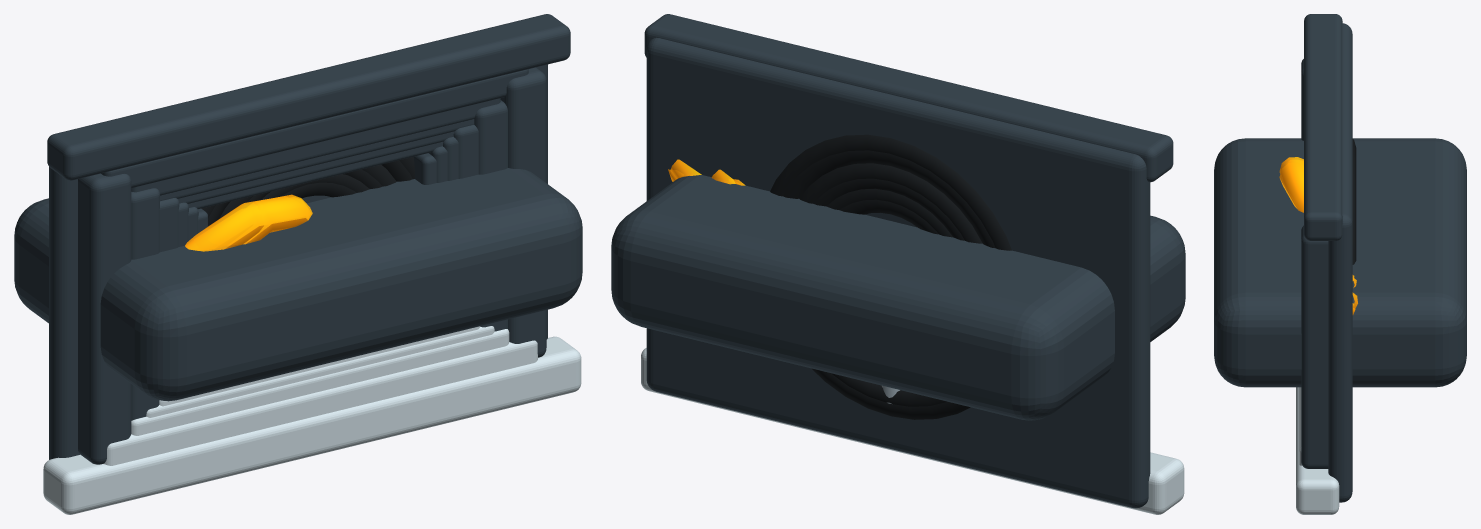
The model's file is body_08.glb.
3 views of the same model, side by side, from view 1: azimuth 30°, elevation 25°; view 2: azimuth 150°, elevation 25°; view 3: azimuth 270°, elevation 25° (orthographic). The views are drawn at different scales.
Visible parts, largest first — view 1: asset_mesh__body_0476__reference_body, asset_mesh__body_0449__lower_flange, asset_mesh__body_0449__upper_flange, asset_mesh__body_0449__left_reinforcement, asset_mesh__body_0482__upper_flange, asset_mesh__body_0482__lower_flange, asset_mesh__body_0449__stamped_sheet, asset_mesh__body_0453__upper_flange, asset_mesh__body_0449__right_reinforcement, asset_mesh__body_0453__lower_flange, asset_mesh__body_0452__upper_flange, asset_mesh__body_0482__left_reinforcement (+12 smaller); view 2: asset_mesh__body_0449__stamped_sheet, asset_mesh__body_0476__reference_body, asset_mesh__body_0449__lower_flange, asset_mesh__body_0485__service_element, asset_mesh__body_0484__service_element, asset_mesh__body_0490__service_element, asset_mesh__body_0449__upper_flange, asset_mesh__body_0489__service_element, asset_mesh__body_0487__service_element, asset_mesh__body_0486__service_element; view 3: asset_mesh__body_0476__reference_body, asset_mesh__body_0449__lower_flange, asset_mesh__body_0449__stamped_sheet, asset_mesh__body_0449__right_reinforcement, asset_mesh__body_0449__upper_flange, asset_mesh__body_0470__fluid_path, asset_mesh__body_0485__service_element.
Part boxes in pixels (<box>): asset_mesh__body_0476__reference_body: <box>14,168,582,401</box>; asset_mesh__body_0449__lower_flange: <box>47,14,570,180</box>; asset_mesh__body_0449__upper_flange: <box>43,336,581,514</box>; asset_mesh__body_0449__left_reinforcement: <box>78,173,131,464</box>; asset_mesh__body_0482__upper_flange: <box>104,340,537,465</box>; asset_mesh__body_0482__lower_flange: <box>101,69,528,188</box>; asset_mesh__body_0449__stamped_sheet: <box>49,64,547,459</box>; asset_mesh__body_0453__upper_flange: <box>131,329,509,435</box>; asset_mesh__body_0449__right_reinforcement: <box>500,67,546,357</box>; asset_mesh__body_0453__lower_flange: <box>131,98,500,195</box>; asset_mesh__body_0452__upper_flange: <box>146,326,494,417</box>; asset_mesh__body_0482__left_reinforcement: <box>131,188,159,420</box>; asset_mesh__body_0449__stamped_sheet: <box>646,37,1150,508</box>; asset_mesh__body_0476__reference_body: <box>611,175,1185,420</box>; asset_mesh__body_0449__lower_flange: <box>644,14,1173,182</box>; asset_mesh__body_0485__service_element: <box>770,134,1011,419</box>; asset_mesh__body_0484__service_element: <box>783,150,995,406</box>; asset_mesh__body_0490__service_element: <box>799,163,982,243</box>; asset_mesh__body_0449__upper_flange: <box>641,348,1184,514</box>; asset_mesh__body_0489__service_element: <box>814,178,964,240</box>; asset_mesh__body_0487__service_element: <box>826,188,952,237</box>; asset_mesh__body_0486__service_element: <box>840,199,938,234</box>; asset_mesh__body_0476__reference_body: <box>1214,138,1466,387</box>; asset_mesh__body_0449__lower_flange: <box>1304,14,1342,240</box>; asset_mesh__body_0449__stamped_sheet: <box>1328,23,1352,502</box>; asset_mesh__body_0449__right_reinforcement: <box>1301,225,1328,468</box>; asset_mesh__body_0449__upper_flange: <box>1296,387,1339,514</box>; asset_mesh__body_0470__fluid_path: <box>1279,162,1356,287</box>; asset_mesh__body_0485__service_element: <box>1352,139,1356,264</box>.
Size of the model in its own units: 1.72 by 1.15 by 0.882.
